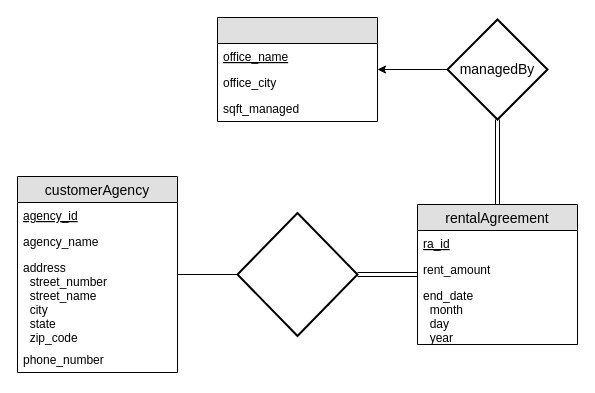
Some shapes in this 595 by 393 pixel diagram are drawn without their labels. The shapes that lost their labels are listed below. From the top down, each one's box as (x1, y1, x2, y2) in pixels, then its label:
(216, 16, 378, 122): gsaOffice
(236, 212, 358, 336): agency Rental Agreements
